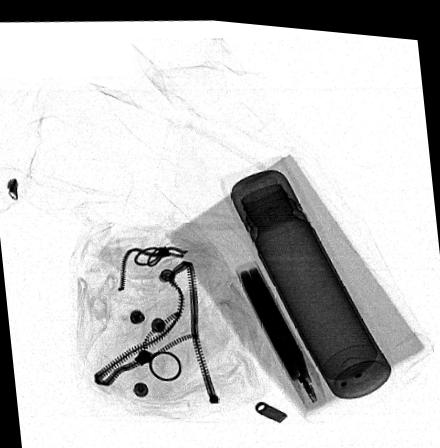Powerbank: (233, 254, 327, 403)
